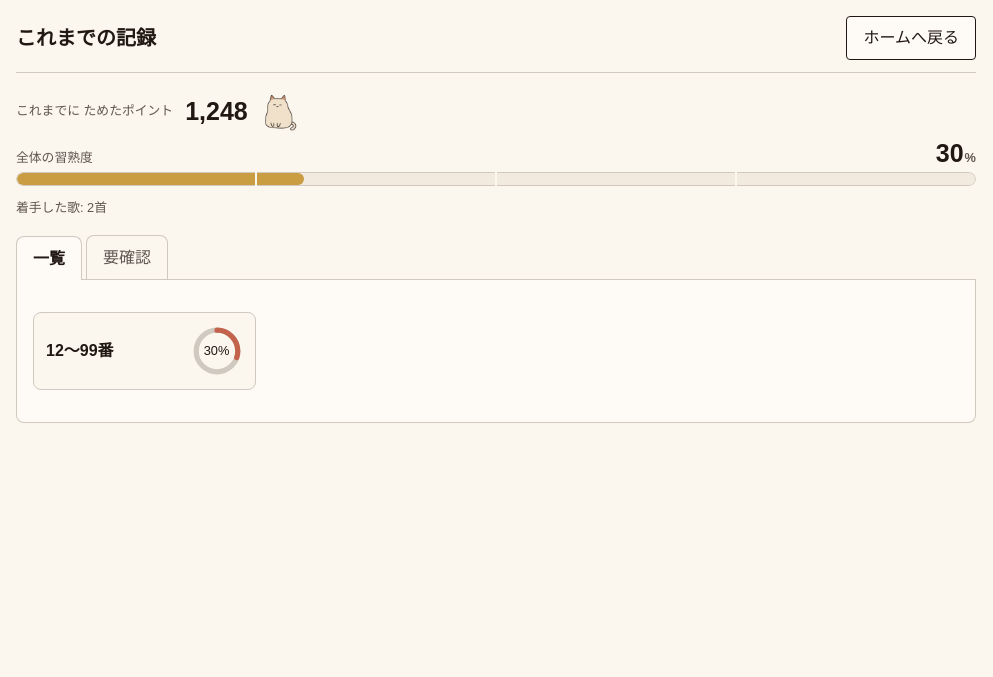
Test: history: メーターと数値を表示する
Click the button with class "history-group".
click(144, 351)  # box [33, 312, 256, 390]
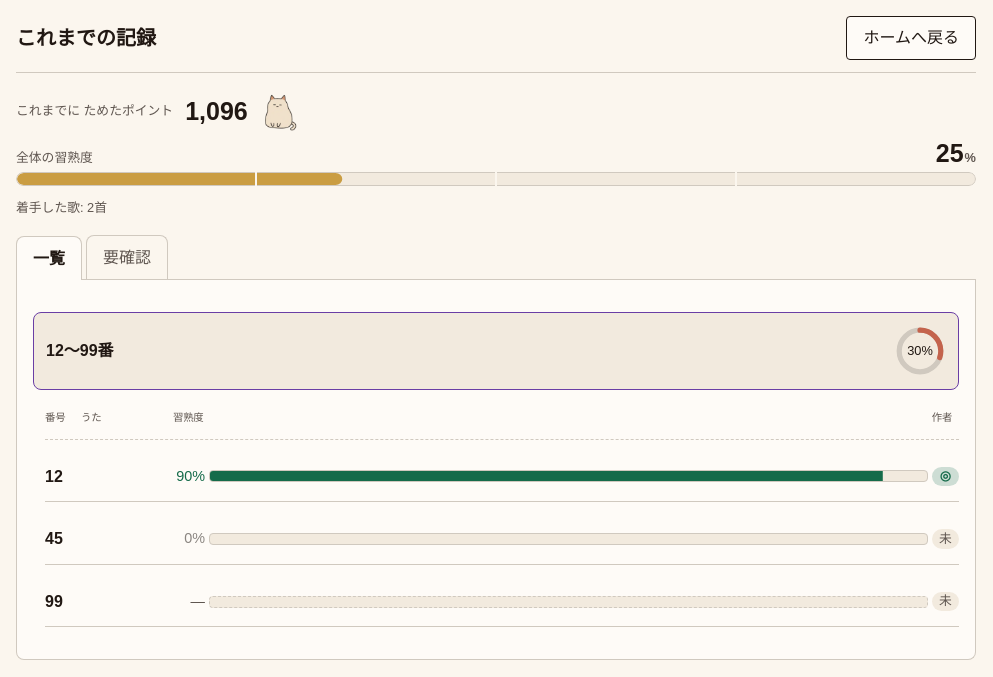
Expected: the element with class "history-entry" does not show "習熟度"
Expected: the text "90%" is shown, [173, 465, 205, 488]
Expected: the list item with class "history-head" shows "習熟度", [173, 412, 204, 423]
